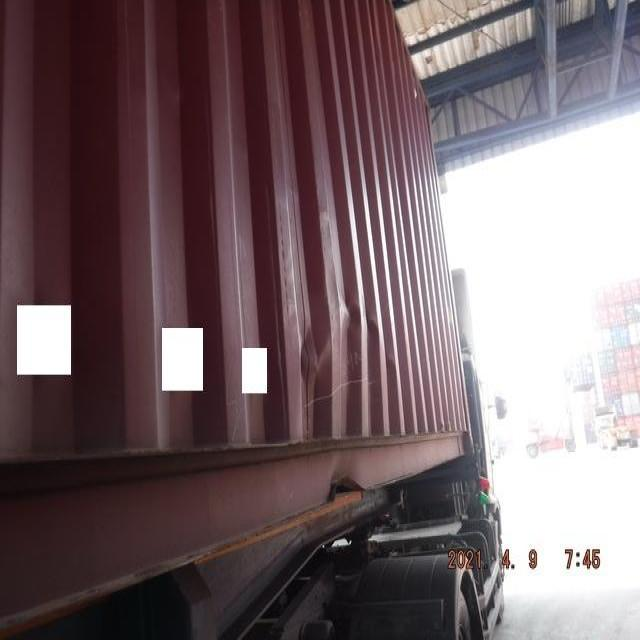dent: (277, 281, 401, 394)
